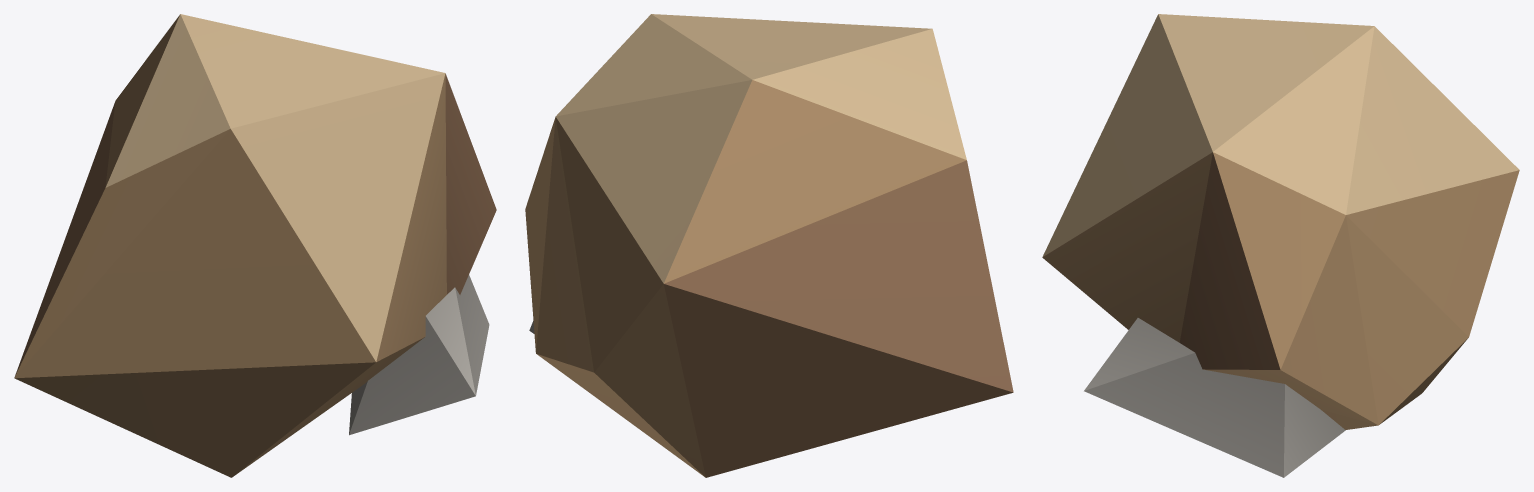
The model's file is ore_chunk_low.glb.
The picture shows the model from 3 angles, left to right: view 1: azimuth 30°, elevation 25°; view 2: azimuth 150°, elevation 25°; view 3: azimuth 270°, elevation 25°; orthographic projection. The views are drawn at different scales.
Bounding box in the file's own units: 0.2653 × 0.2056 × 0.2384.
